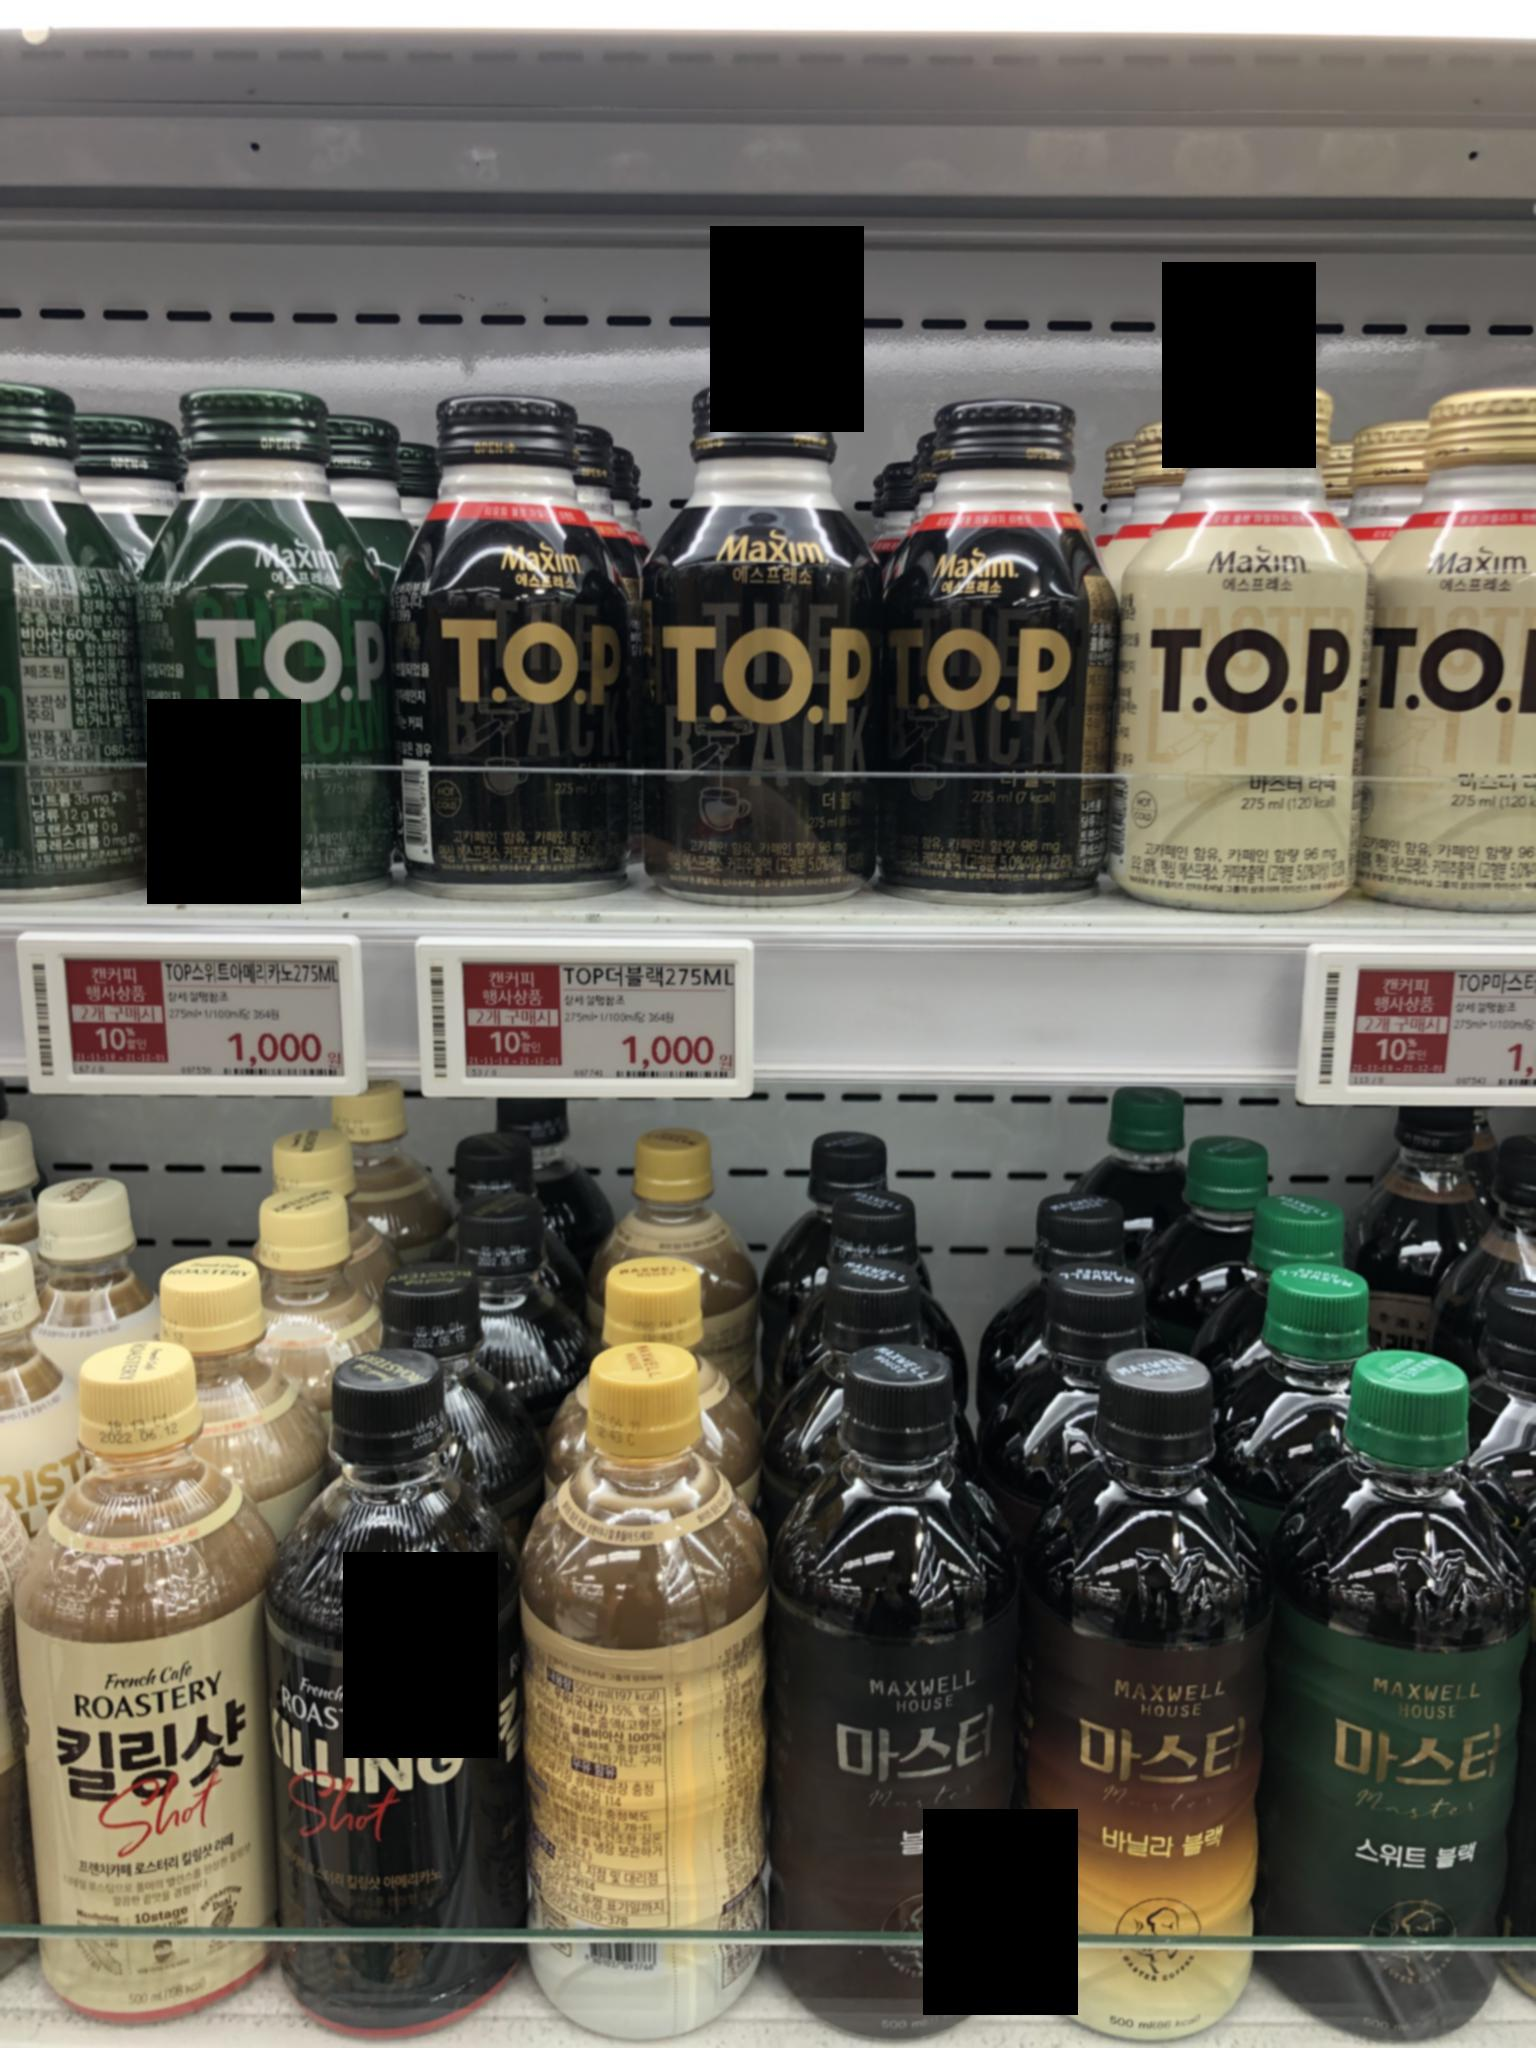TOP_black: (895, 376, 1136, 906), (642, 385, 878, 893), (397, 385, 615, 874)
